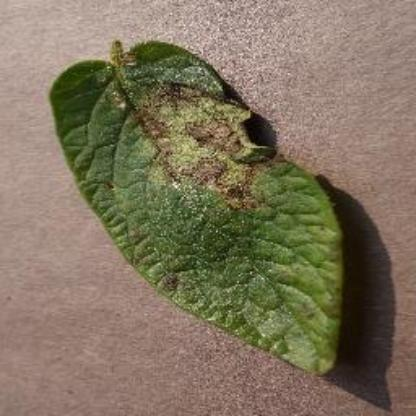Late-Blight: (44, 32, 364, 374)
